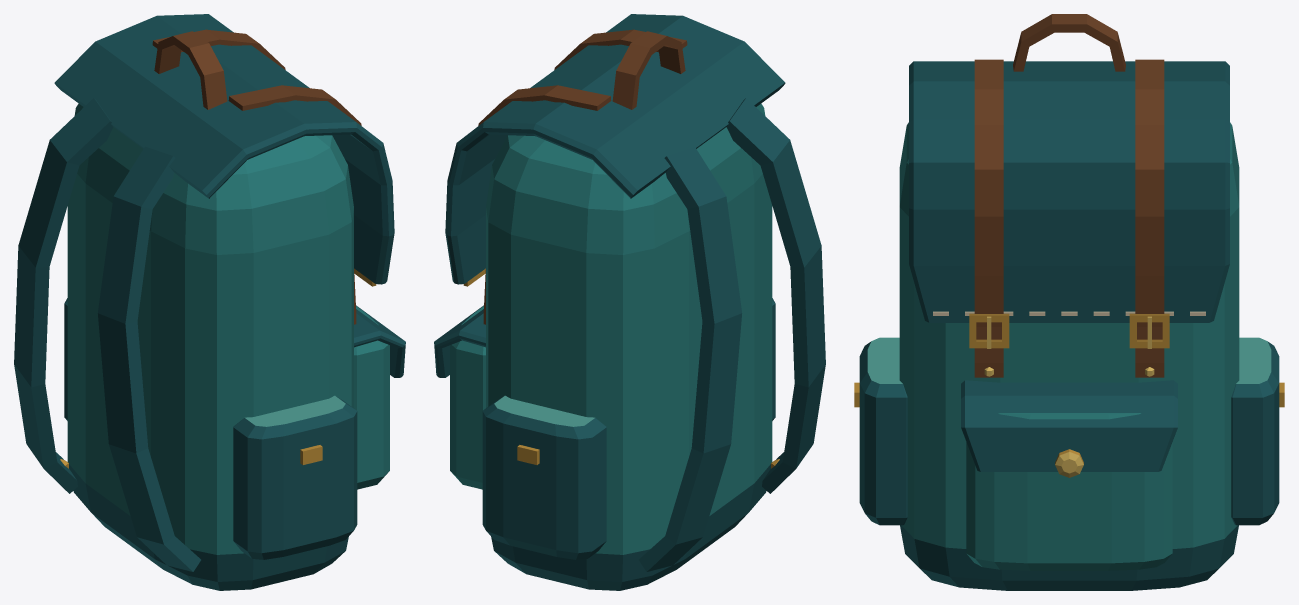
Rendered from backpack_leather.glb.
3 renders of one model, left to right at view 1: azimuth 30°, elevation 25°; view 2: azimuth 150°, elevation 25°; view 3: azimuth 270°, elevation 25°, orthographic. The views are drawn at different scales.
Parts seen in each view (by area): view 1: backpack_leather; view 2: backpack_leather; view 3: backpack_leather.
Part boxes in pixels (x1=…): backpack_leather: x1=14, y1=14, x2=405, y2=590; backpack_leather: x1=434, y1=14, x2=825, y2=590; backpack_leather: x1=854, y1=14, x2=1284, y2=590.
Bounding box in the file's own units: 0.4568 × 0.7178 × 0.536.
